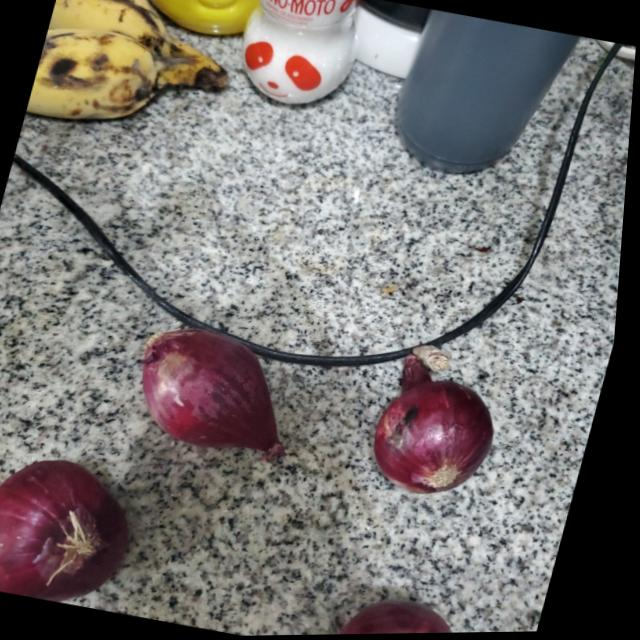onion: (128, 321, 320, 470), (0, 442, 151, 613), (369, 344, 520, 502), (335, 585, 499, 636)
